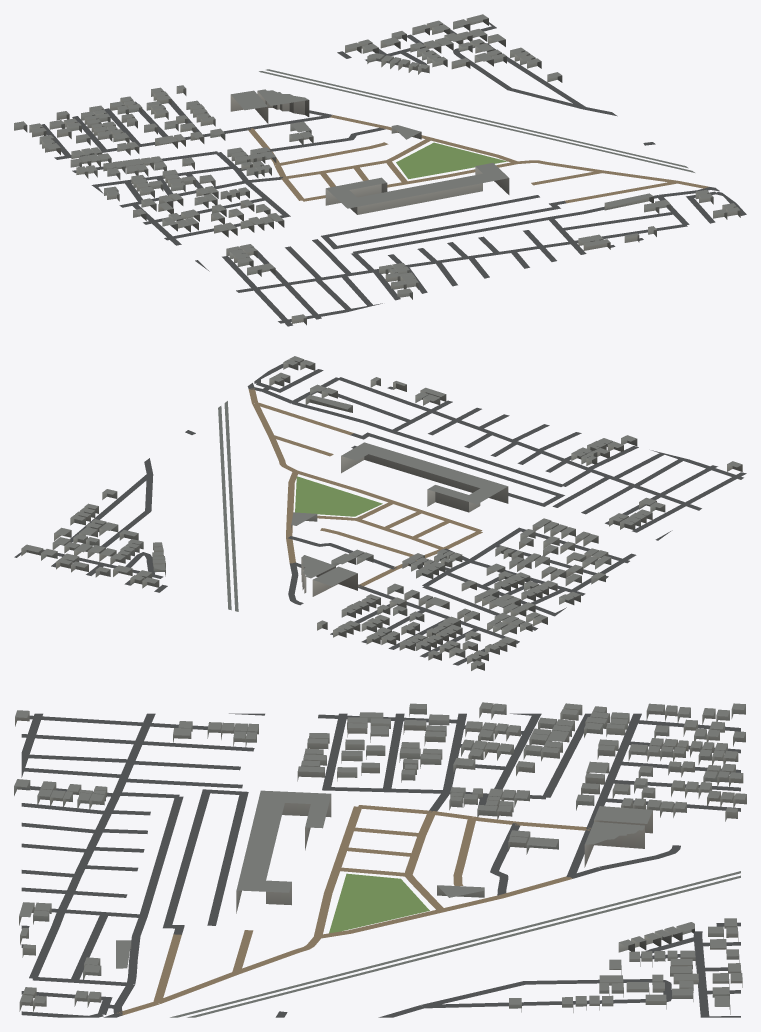
The picture shows the model from 3 angles, top to bottom: view 1: azimuth 30°, elevation 25°; view 2: azimuth 150°, elevation 25°; view 3: azimuth 270°, elevation 25°; orthographic projection. The views are drawn at different scales.
Parts seen in each view (by area): view 1: building, ground; view 2: building, ground; view 3: ground, building.
Boxes of the visible parts, left/top/right/bottom form: building: left=14, top=14, right=740, bottom=325; ground: left=41, top=22, right=746, bottom=326; building: left=21, top=356, right=742, bottom=670; ground: left=14, top=363, right=746, bottom=665; ground: left=21, top=713, right=740, bottom=1017; building: left=14, top=702, right=746, bottom=1014.
Bounding box in the file's own units: 504 × 18 × 509.
